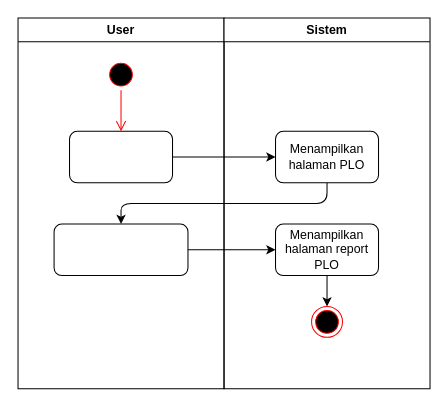
This 448x407 diagram has some shape labels left out. The centre of each missing label's shape, as x and y in pixels:
"Pada kolom report PLO tekan tombol pada salah satu data PLO" goes at point (120, 249).
"Pilih fitur PLO" goes at point (120, 156).
